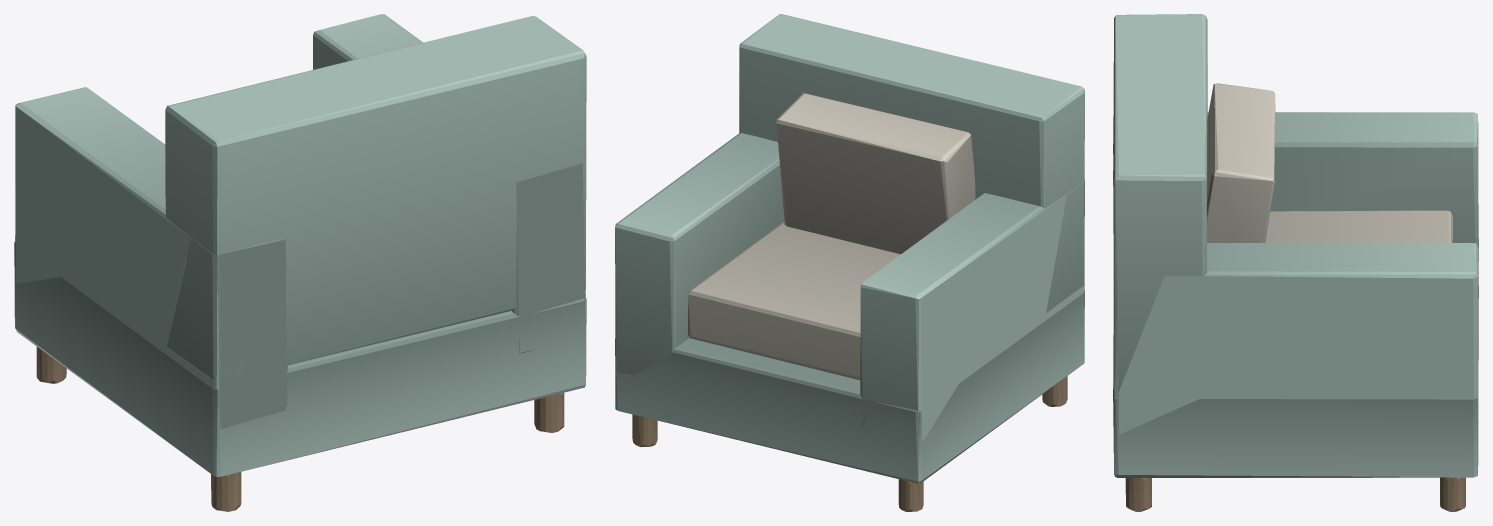
File: furn_armchair__mint_low.glb
3 renders of one model, left to right at view 1: azimuth 30°, elevation 25°; view 2: azimuth 150°, elevation 25°; view 3: azimuth 270°, elevation 25°, orthographic. The views are drawn at different scales.
Bounding box in the file's own units: 0.9 × 0.8786 × 0.85.
